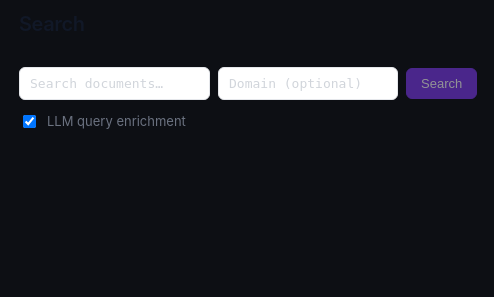
Test case: SearchPage › shows results after search
Type "test" into the field named "query" at (114, 84), box top-left (19, 67), bottom-right (210, 100)
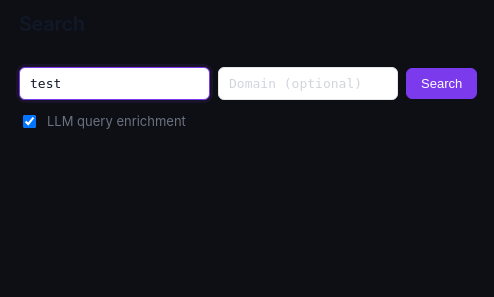
Click the button "Search" at (442, 84), box top-left (406, 68), bottom-right (477, 99)
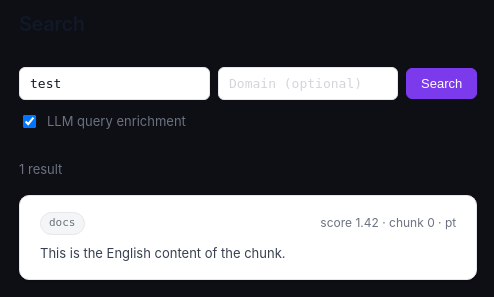
Check: the text "This is the English content of the chunk." is shown, box top-left (40, 244), bottom-right (286, 260)
